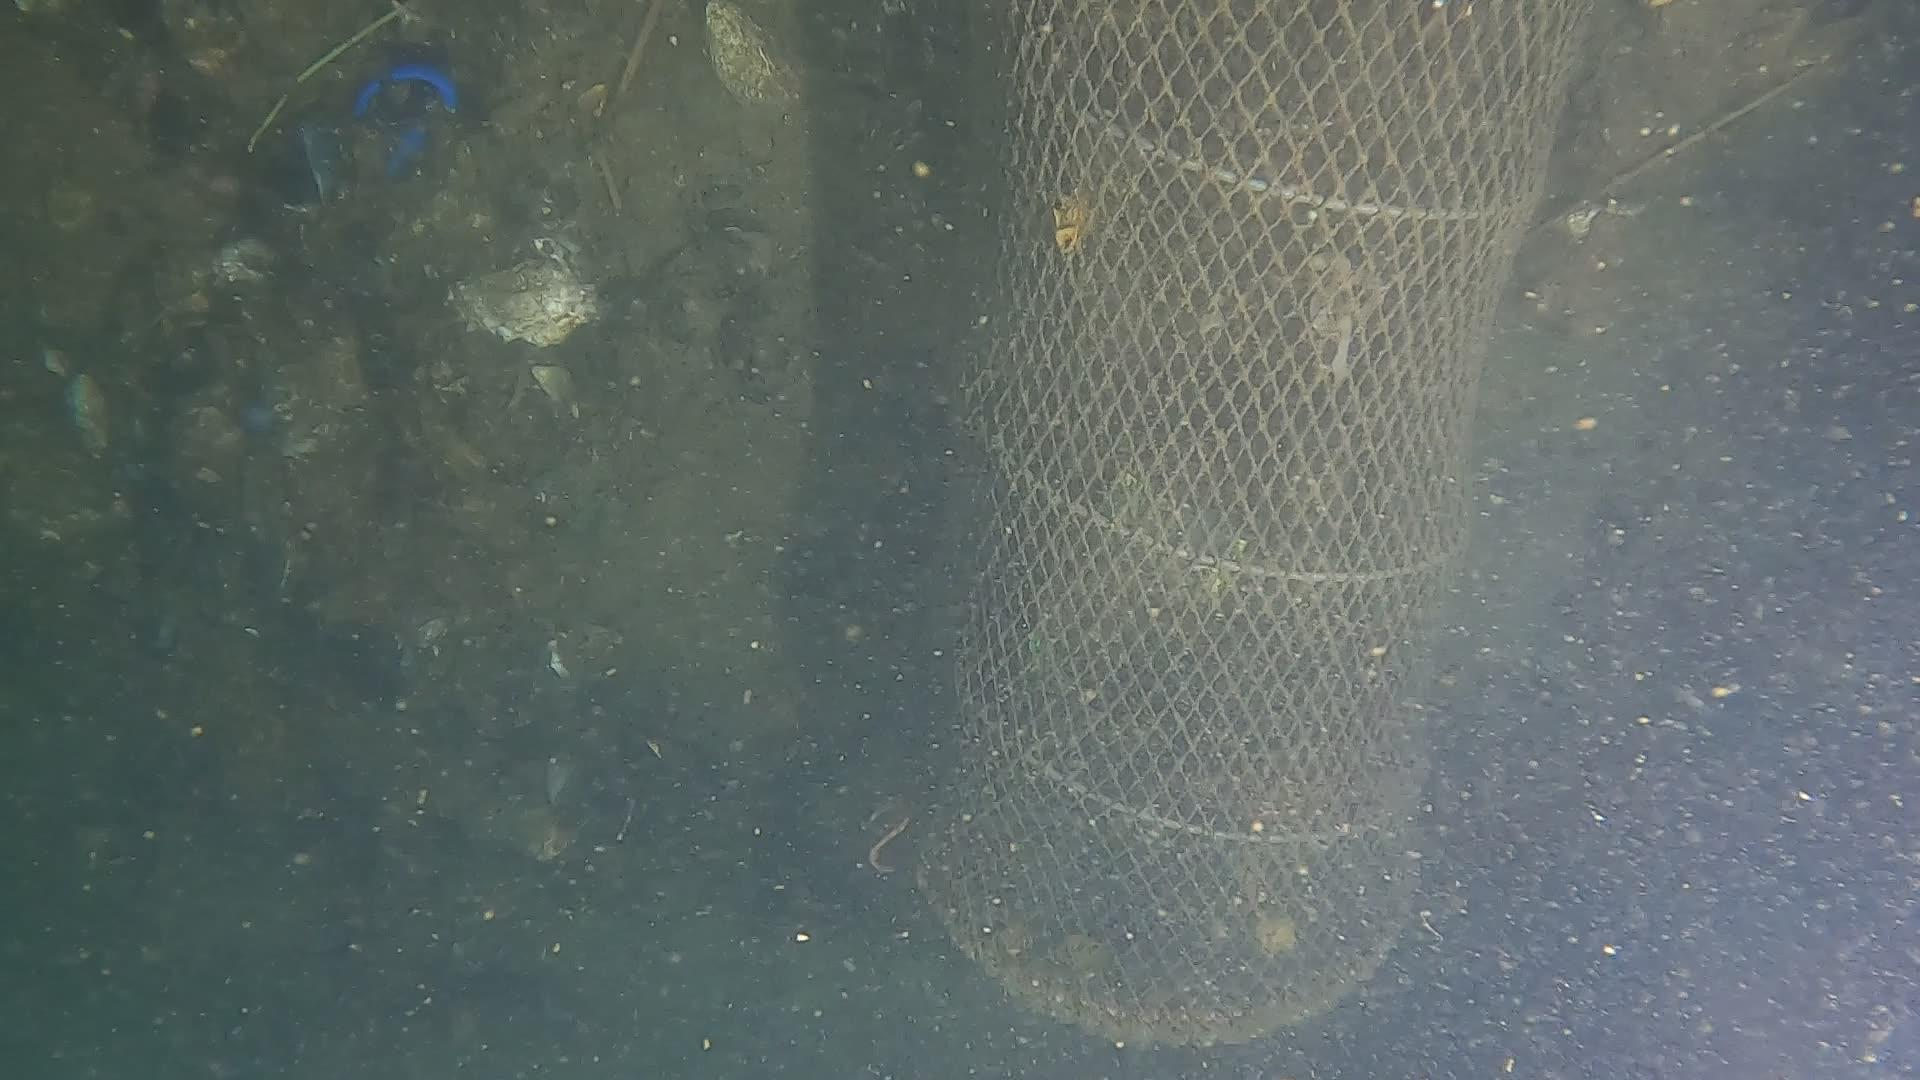spring fish trap: (909, 0, 1584, 1048)
